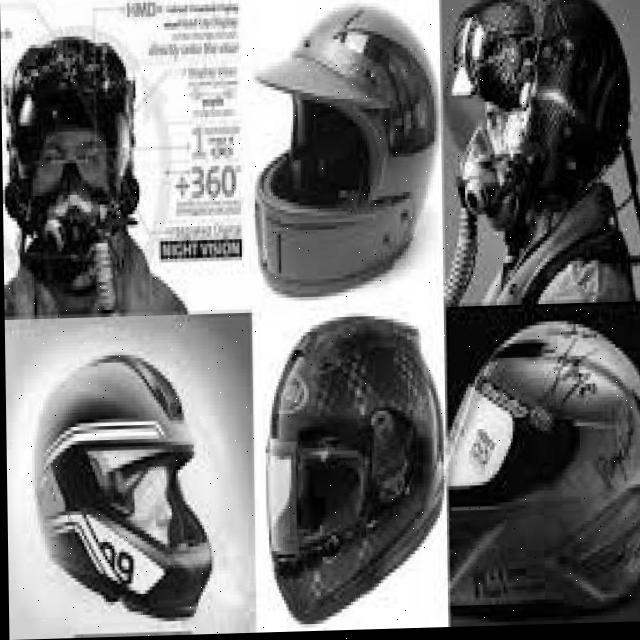Helmet: (253, 0, 635, 298), (439, 325, 640, 623), (258, 307, 443, 623), (24, 352, 222, 623)
